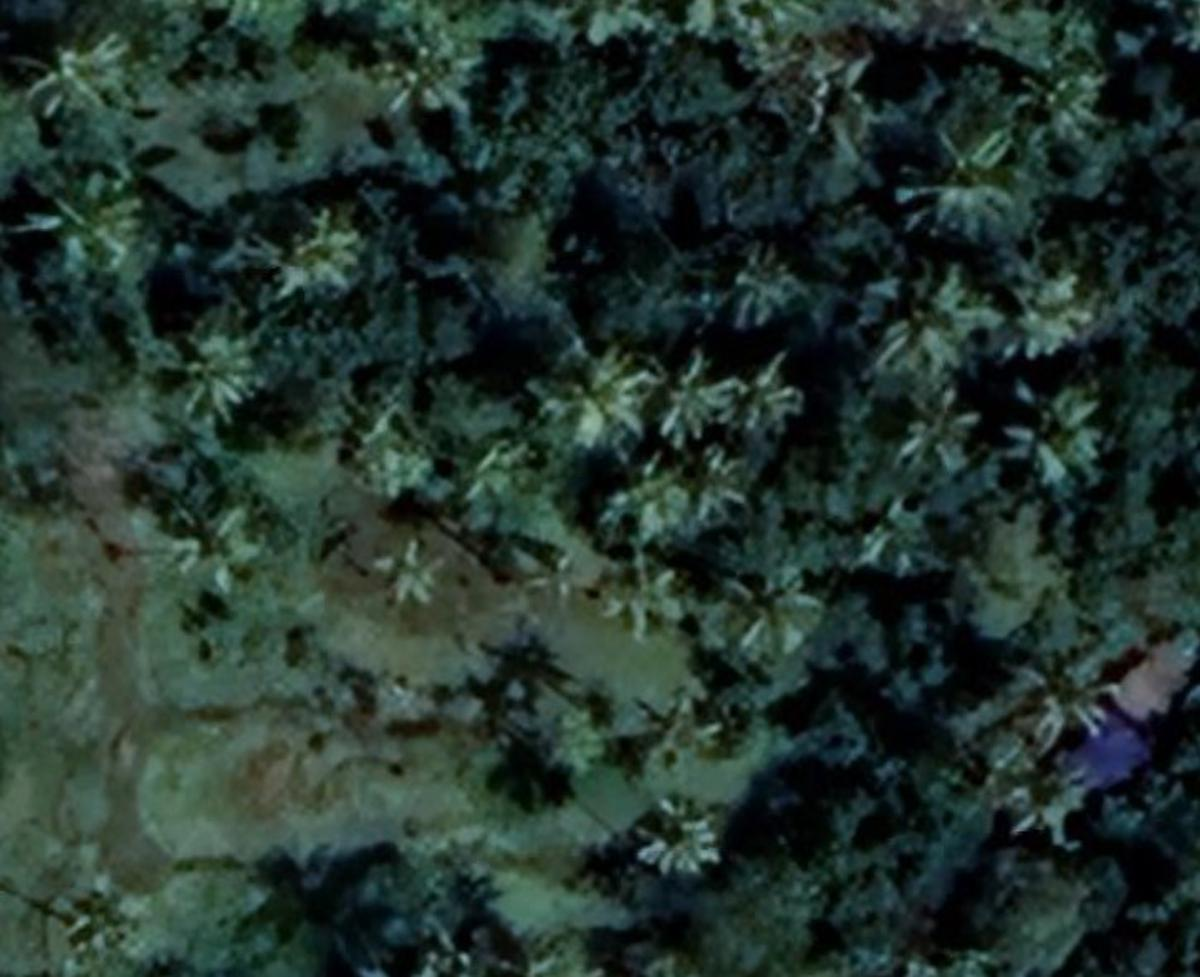coconut: (534, 339, 643, 465), (910, 114, 1022, 236), (868, 255, 984, 369), (43, 185, 163, 289), (1014, 382, 1122, 496), (1003, 258, 1102, 375), (1019, 659, 1128, 761), (720, 566, 829, 667), (599, 551, 698, 659), (625, 798, 736, 890), (19, 28, 130, 119), (162, 490, 279, 576), (369, 28, 491, 110), (653, 437, 746, 543), (271, 200, 365, 304), (640, 673, 739, 771), (723, 347, 819, 440), (902, 385, 986, 488), (650, 346, 743, 435), (177, 319, 259, 412), (706, 248, 796, 332), (600, 470, 688, 554), (1016, 66, 1089, 157), (384, 538, 453, 614)
